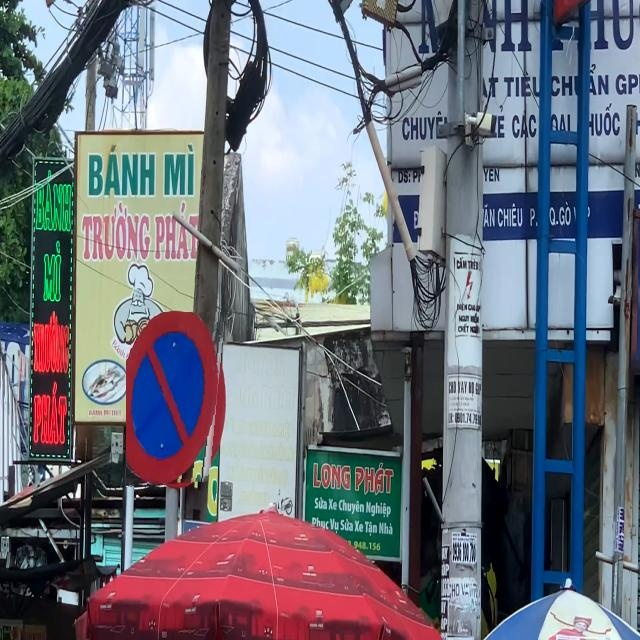bien_cam: (126, 312, 226, 488)
